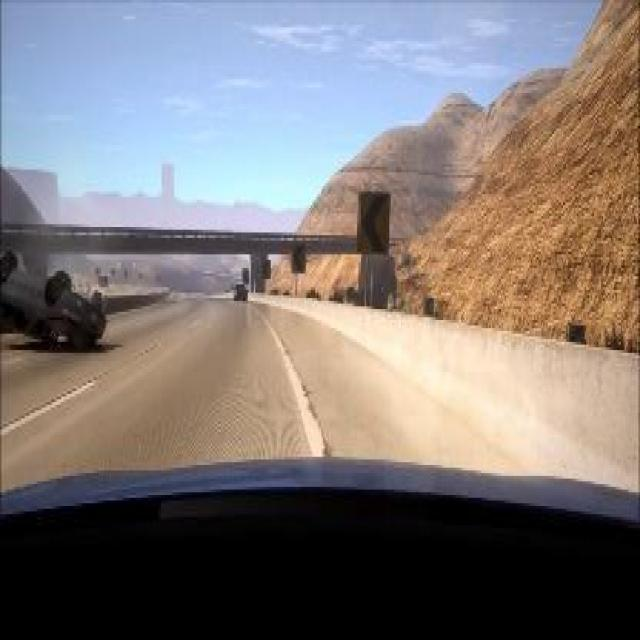accident: (0, 249, 112, 361)
